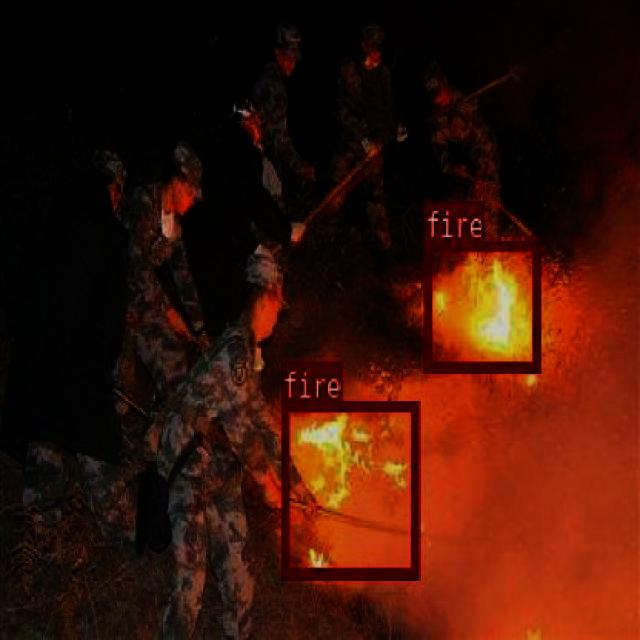fire: (280, 398, 418, 576), (424, 236, 540, 370)
